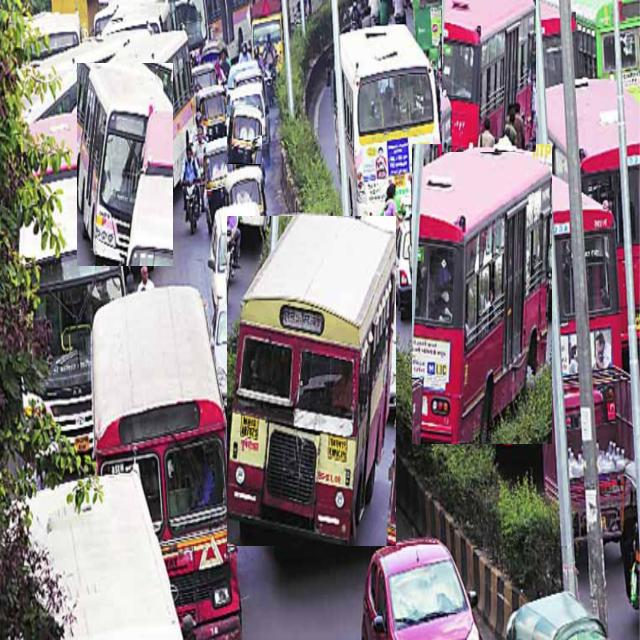autorickshaw: (204, 137, 236, 231), (227, 106, 261, 164)
bus: (227, 216, 395, 546), (91, 286, 241, 639), (412, 144, 551, 444), (20, 173, 125, 452), (340, 25, 440, 228), (77, 63, 172, 266), (442, 0, 535, 152), (126, 31, 195, 188)
car: (361, 537, 479, 639)
